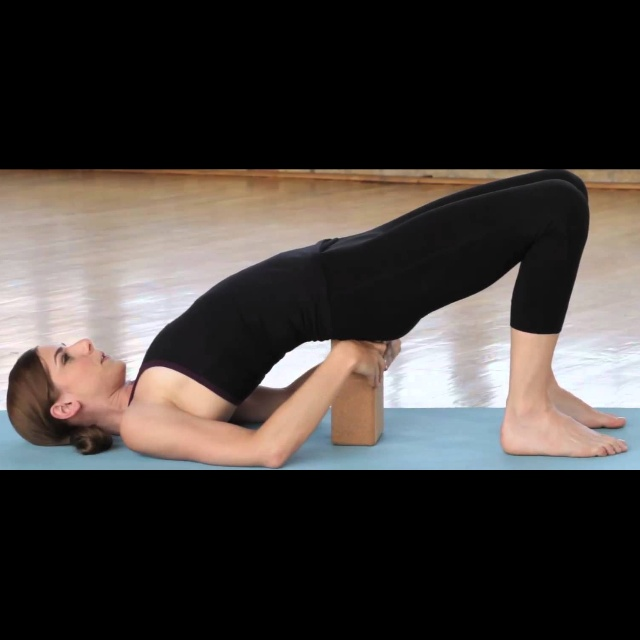Bridge_Pose: (4, 169, 633, 474)
